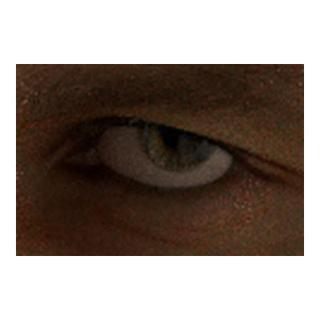pupil: (162, 113, 198, 149)
